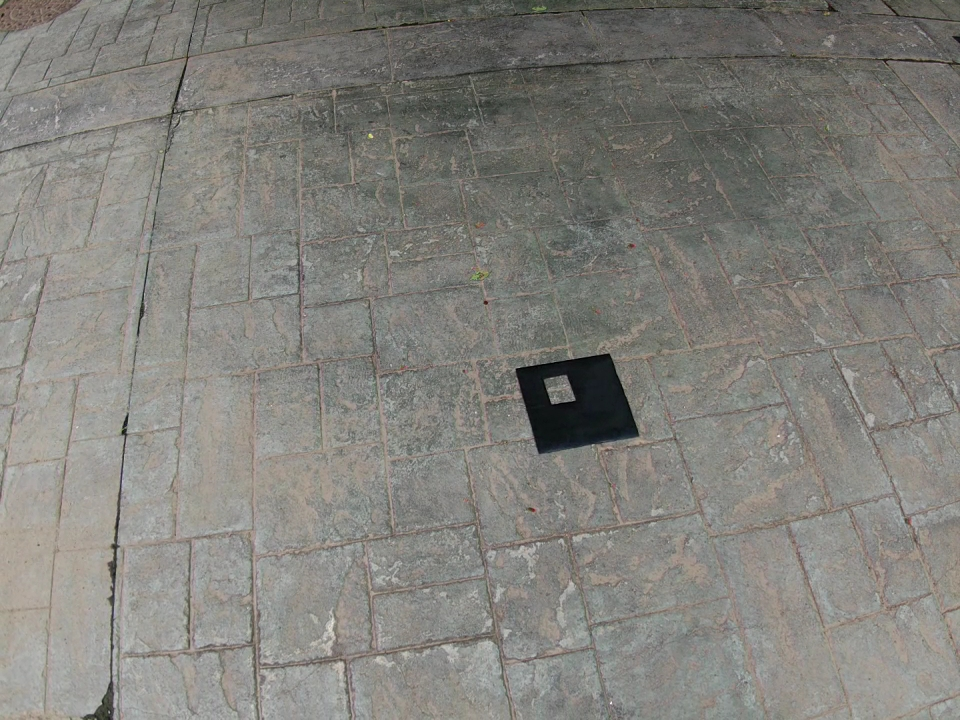qrcode: (515, 354, 638, 453)
